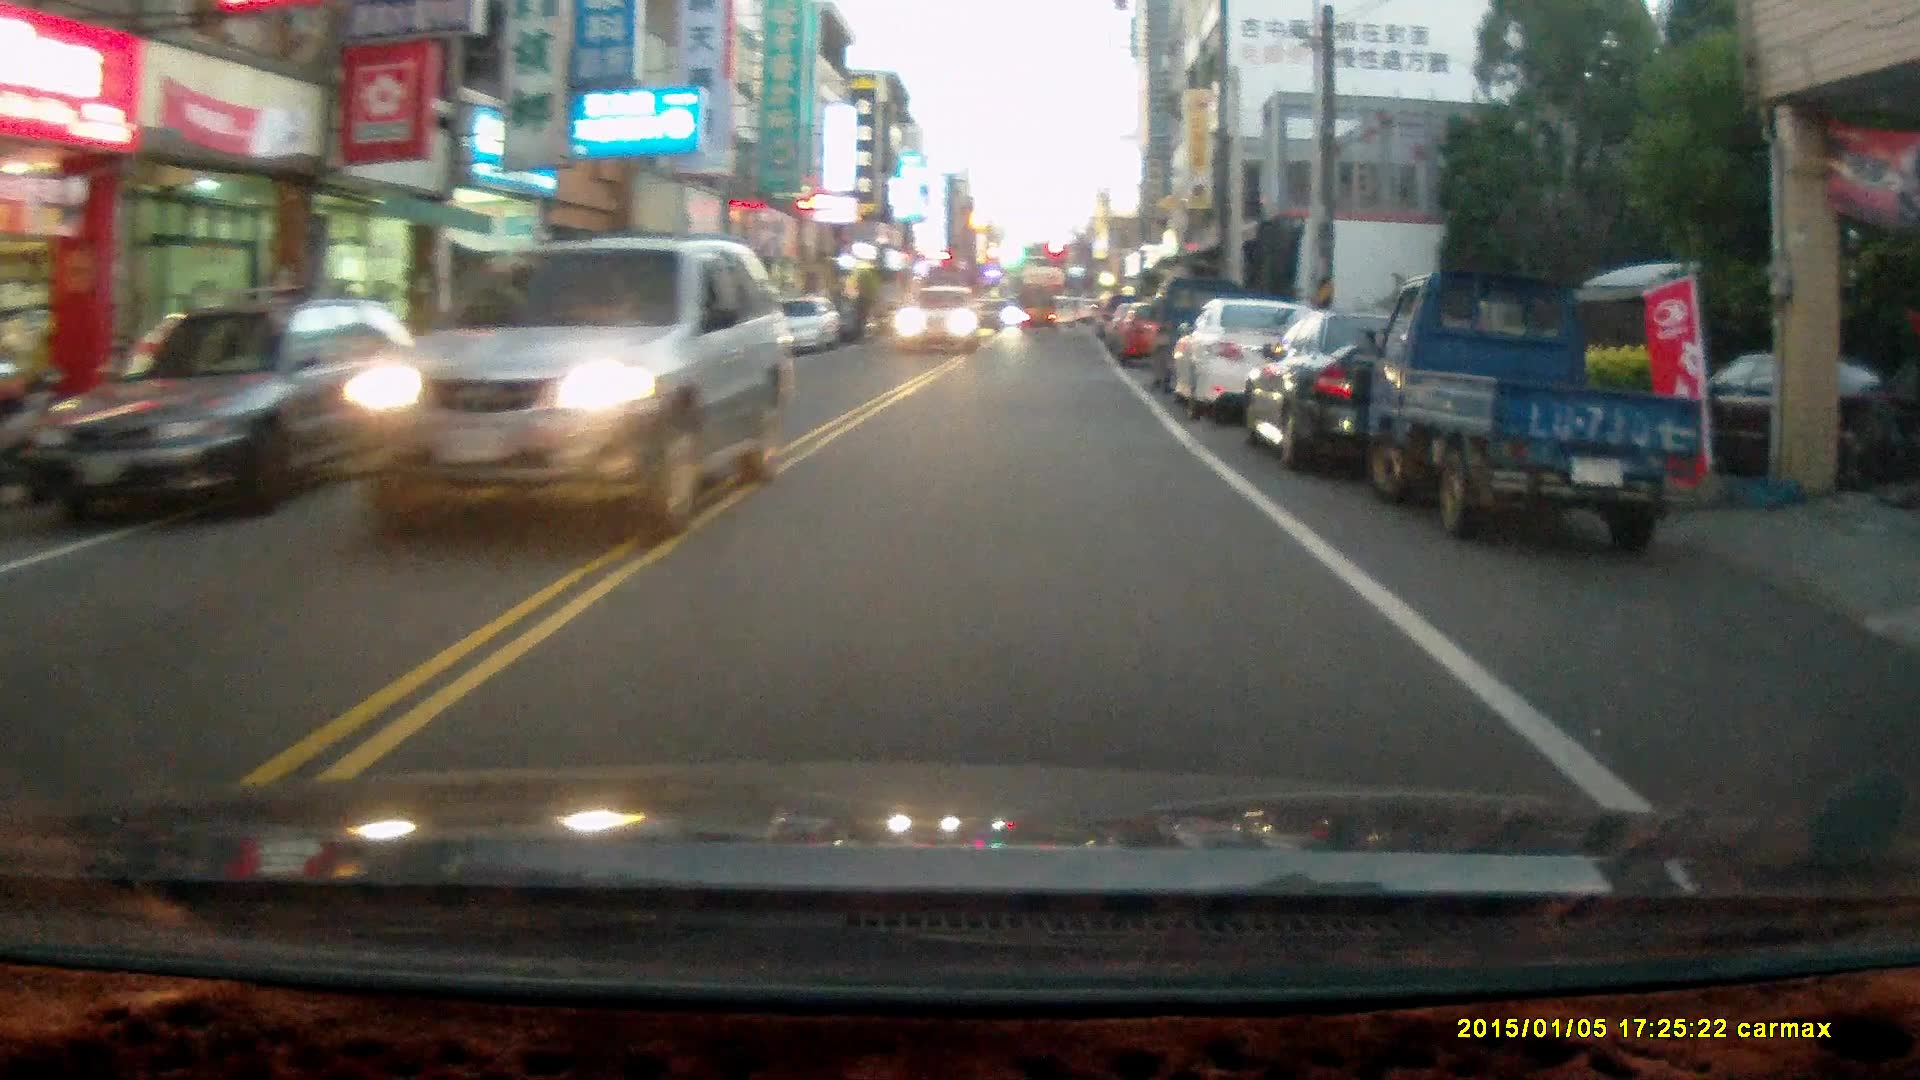vehicle: (335, 233, 804, 538), (1366, 272, 1712, 558), (45, 291, 448, 524), (1247, 309, 1518, 477), (1164, 301, 1336, 422), (899, 286, 984, 360), (1015, 290, 1059, 339)
